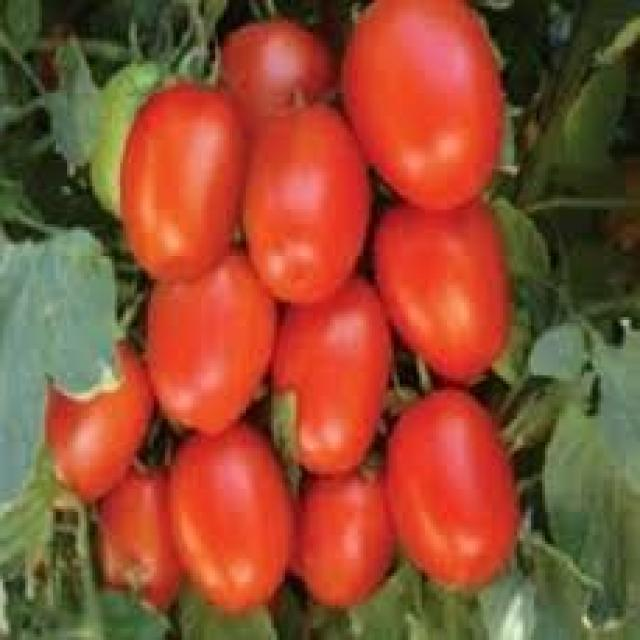Fresh_tomato: (346, 1, 502, 194), (378, 205, 516, 378), (126, 78, 237, 278), (170, 435, 293, 613), (390, 398, 514, 570), (250, 117, 358, 288), (19, 337, 145, 482), (155, 278, 265, 429)
